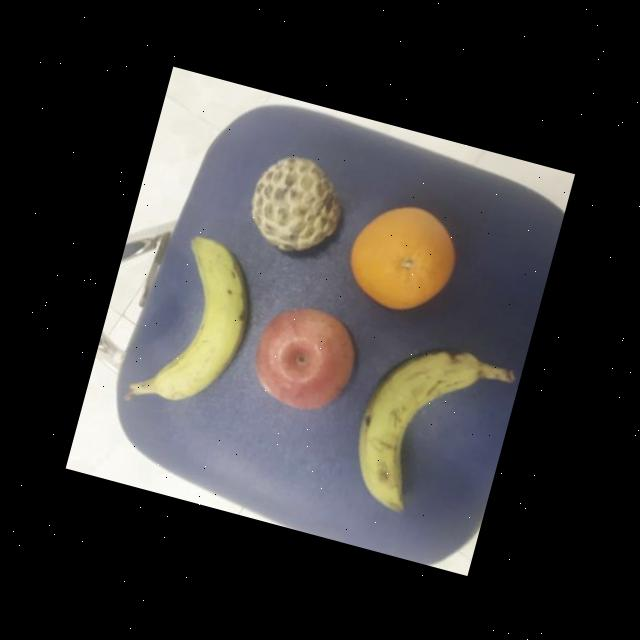Sakya fruit: (238, 143, 354, 264)
apple: (244, 296, 366, 420)
banana: (336, 326, 484, 522), (142, 228, 268, 420)
orange: (336, 190, 467, 324)
